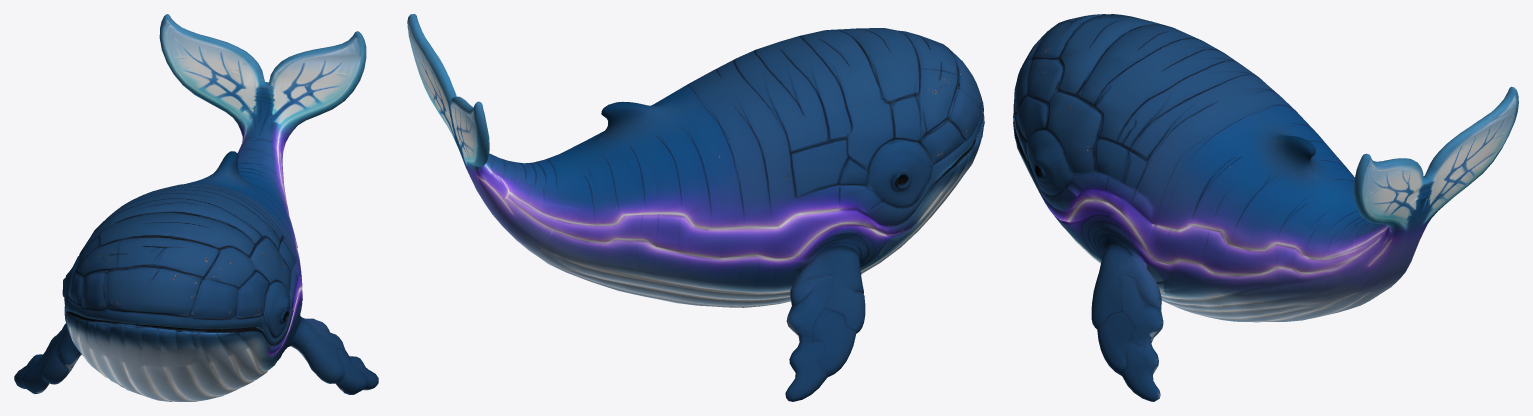
File: whale-boss.glb
The picture shows the model from 3 angles, left to right: view 1: azimuth 30°, elevation 25°; view 2: azimuth 150°, elevation 25°; view 3: azimuth 270°, elevation 25°; orthographic projection. The views are drawn at different scales.
Parts seen in each view (by area): view 1: mesh_input; view 2: mesh_input; view 3: mesh_input.
Part boxes in pixels (x1,y1,x2,y2): mesh_input: [14, 14, 378, 401]; mesh_input: [407, 14, 984, 401]; mesh_input: [1013, 14, 1518, 401].
Bounding box in the file's own units: 1.9 × 1.22 × 1.9.
Materials: 1 (1 with a texture image).
